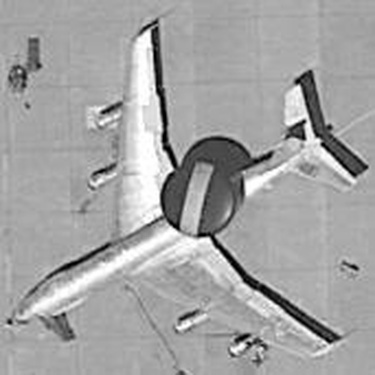airplane: (6, 4, 370, 360)
